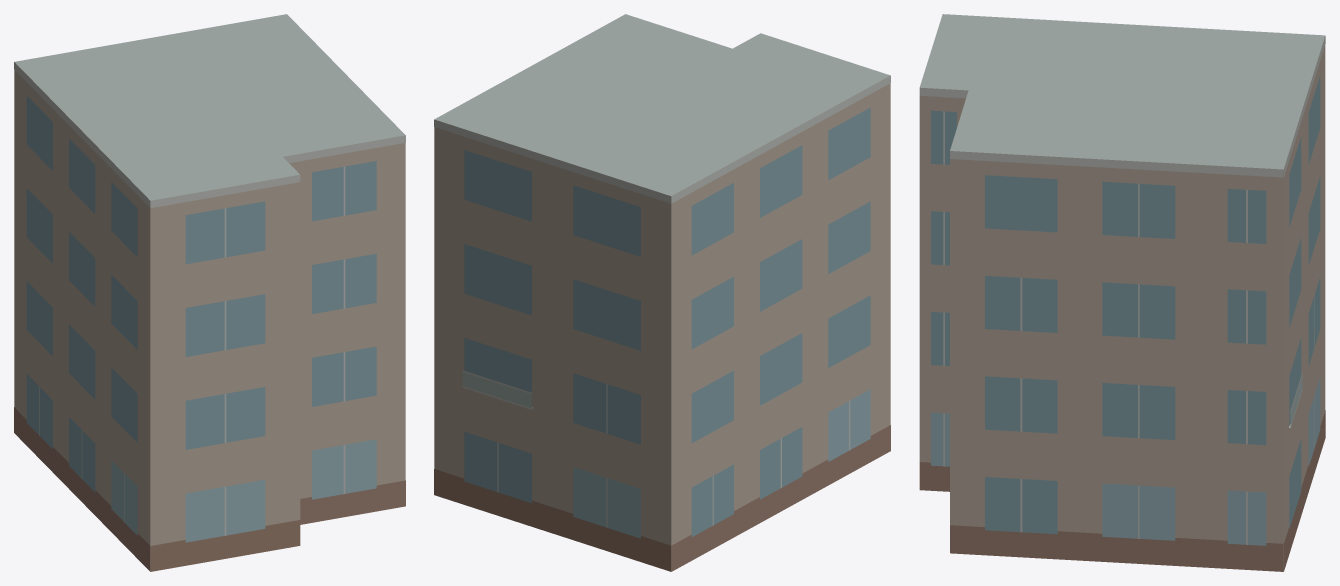
File: residential-6bbf1fc4-ba42-4e00-b8b1-1cc564d33c18.glb
3 renders of one model, left to right at view 1: azimuth 30°, elevation 25°; view 2: azimuth 150°, elevation 25°; view 3: azimuth 270°, elevation 25°, orthographic. The views are drawn at different scales.
Visible parts, largest first — view 1: residential-6bbf1fc4-ba42-4e00-b8b1-1cc564d33c18.tmp; view 2: residential-6bbf1fc4-ba42-4e00-b8b1-1cc564d33c18.tmp; view 3: residential-6bbf1fc4-ba42-4e00-b8b1-1cc564d33c18.tmp.
Part boxes in pixels (box(x1,y1,x2,y2)): residential-6bbf1fc4-ba42-4e00-b8b1-1cc564d33c18.tmp: box(14, 14, 405, 571); residential-6bbf1fc4-ba42-4e00-b8b1-1cc564d33c18.tmp: box(434, 14, 890, 571); residential-6bbf1fc4-ba42-4e00-b8b1-1cc564d33c18.tmp: box(919, 14, 1325, 571).
Size of the model in its own units: 10.12 by 12.2 by 11.17.
